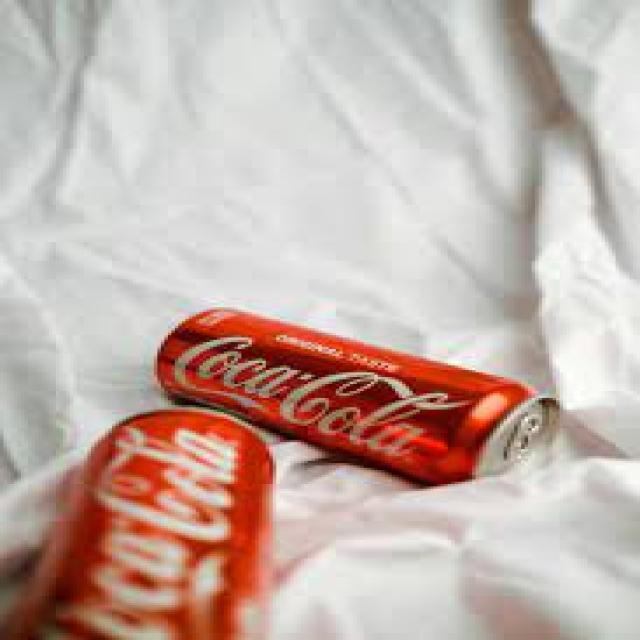Cans: (140, 300, 573, 489), (10, 402, 297, 640)
